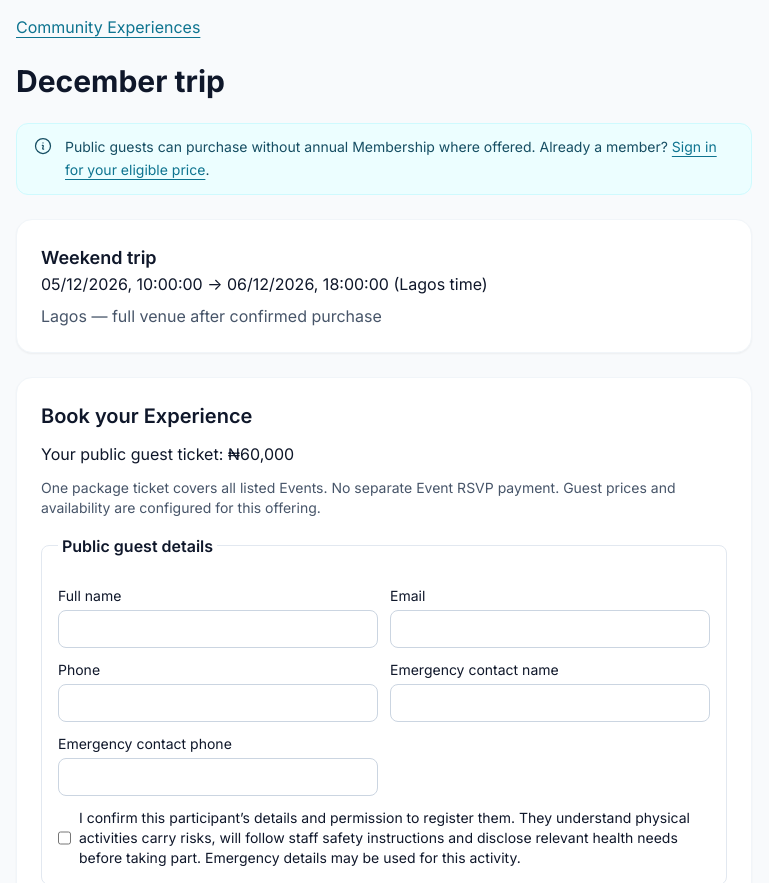
Test case: Experience ticket checkout › reserves a public guest at server price without annual Membership or client totals
Expected: the heading "December trip" is shown, [16,63,225,99]
Type "Visitor Test" into the field labelled "Full name". click: {"x": 218, "y": 628}
box: [58,610,378,648]
Type "visitor@example.com" into the field labelled "Email". click: {"x": 550, "y": 628}
box: [390,610,710,648]
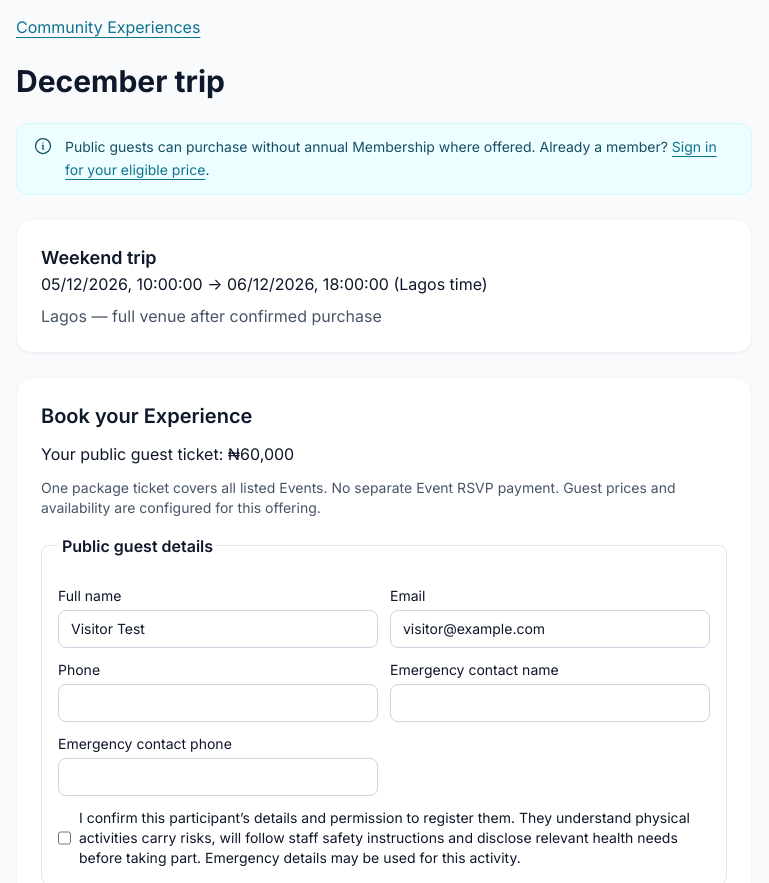
Type "08012345678" into the field labelled "Phone". click: {"x": 218, "y": 702}
box: [58,684,378,722]
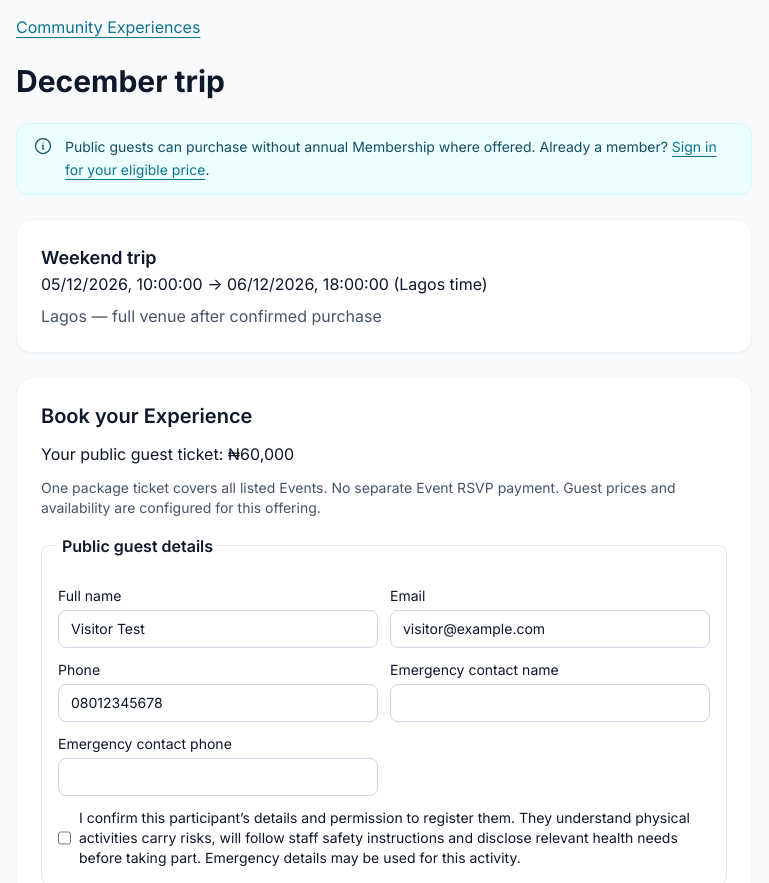
Type "Contact" into the field labelled "Emergency contact name". click: {"x": 550, "y": 702}
box: [390,684,710,722]
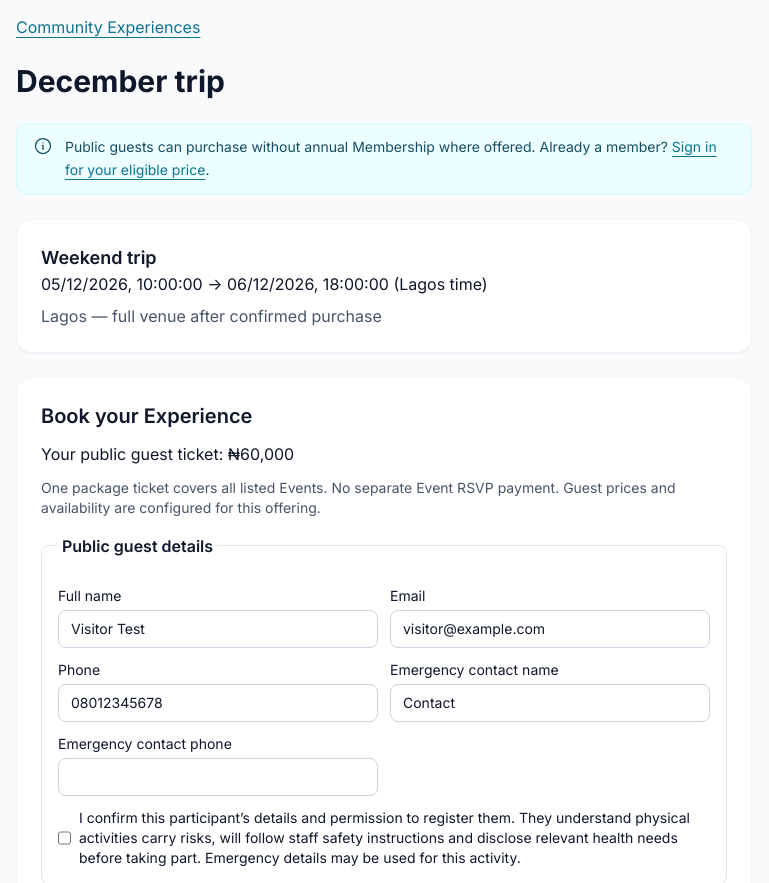
Type "08098765432" into the field labelled "Emergency contact phone". click: {"x": 218, "y": 776}
box: [58,758,378,796]
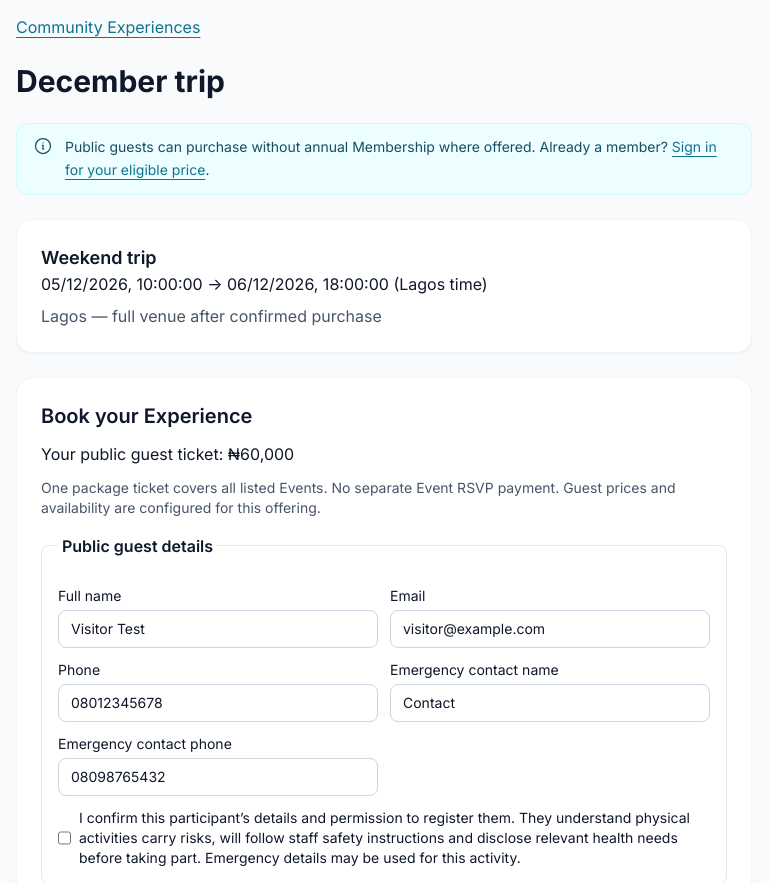
Click the checkbox. click: {"x": 64, "y": 838}
box: [58,808,71,868]
(page scrolled)
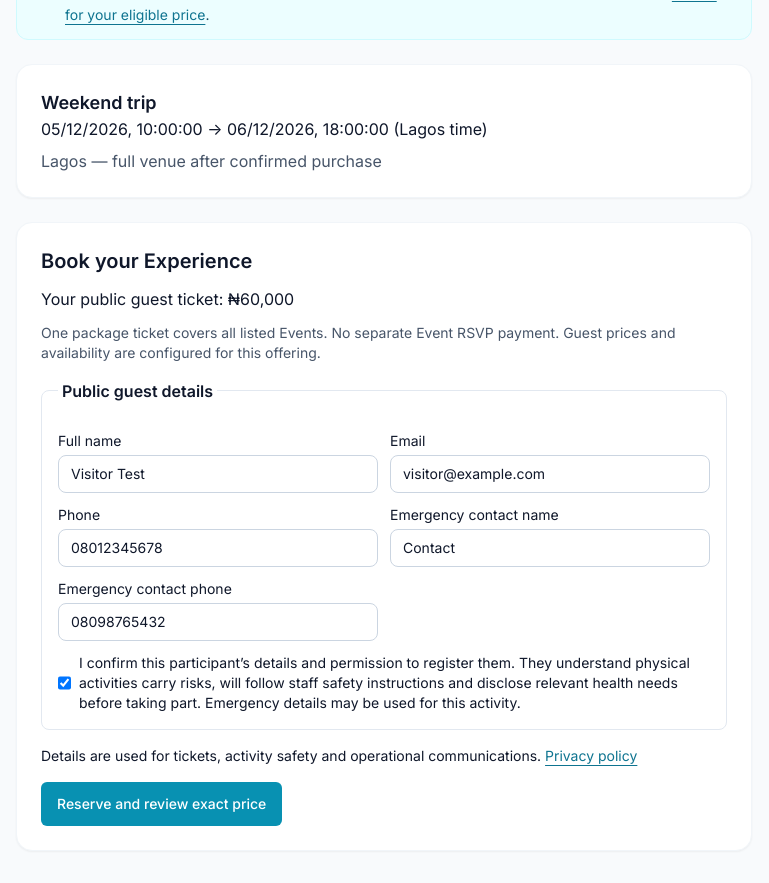
Click the button "Reserve and review exact price". click: {"x": 162, "y": 804}
box: [41,782,282,826]
(page scrolled)
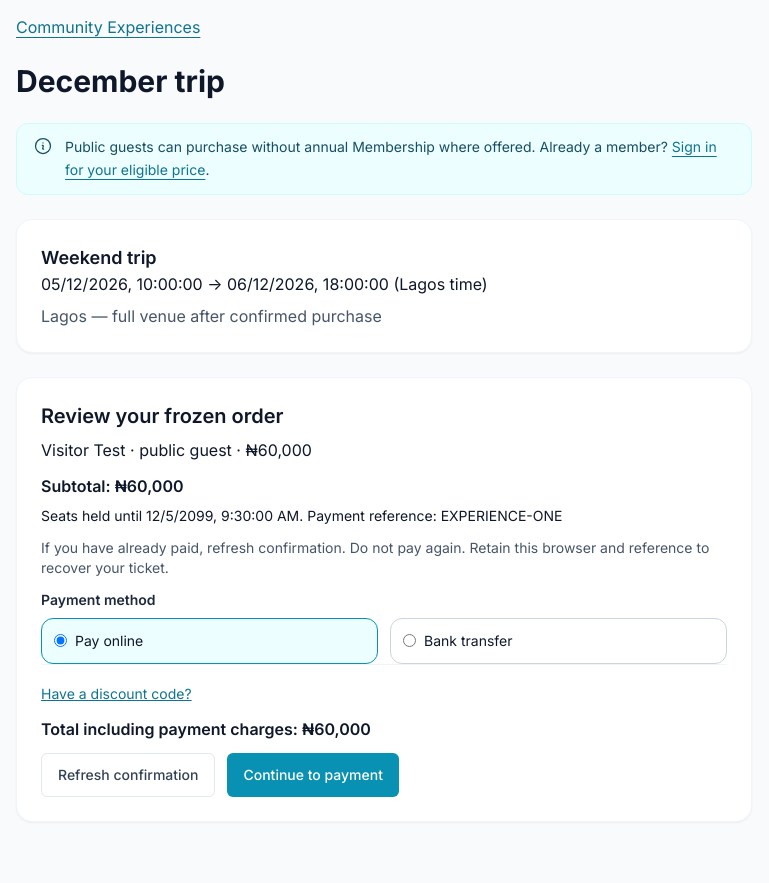
Expected: the text "Subtotal: ₦60,000" is shown, [41,476,184,496]
Expected: the button "Continue to payment" is shown, [228,752,399,796]
